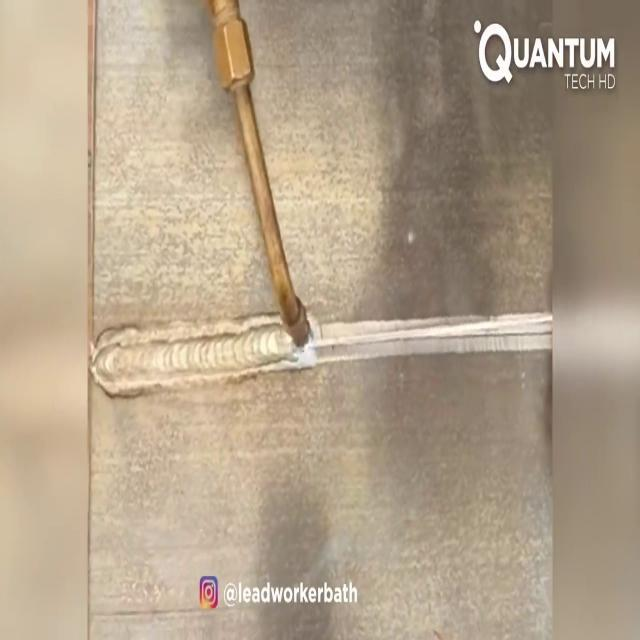Good Weld: (94, 322, 282, 386)
